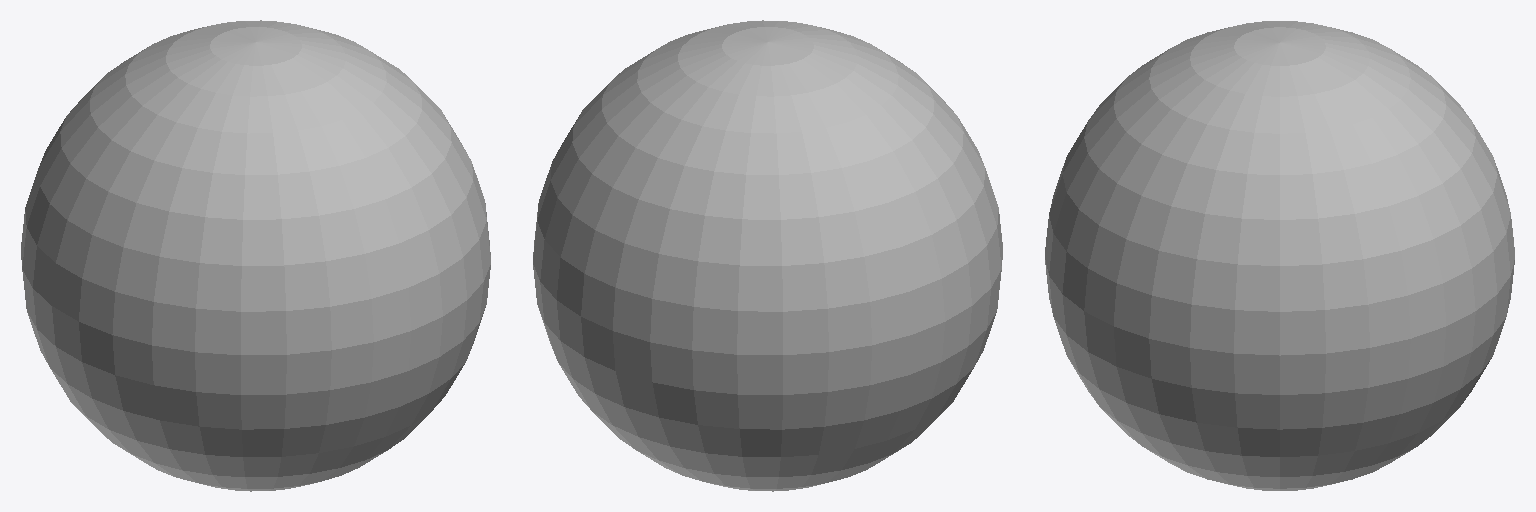
The robot description file, URDF, robot "ball1":
<?xml version="1.0"?>
<robot name="ball1">
  <material name="gray">
    <color rgba="0.75 0.75 0.75 0.5"/>
  </material>

  <link name="base_link">
  <visual>
    <geometry>
      <sphere radius="0.1"/>
    </geometry>
    <material name="gray"/>
  </visual>
    
  <collision>
    <geometry>
      <sphere radius="0.1"/>
    </geometry>
    <material name="gray"/>
  </collision>

  </link>
</robot>

--- Render facts (derived) ---
3 views of the same robot in one strip: view 1: azimuth 30°, elevation 25°; view 2: azimuth 150°, elevation 25°; view 3: azimuth 270°, elevation 25° (orthographic).
Robot: ball1 — 1 links, 0 joints (none); root link base_link; default pose: all joints at 0.
Links seen in each view (by area): view 1: base_link; view 2: base_link; view 3: base_link.
Boxes of the visible links, left/top/right/bottom form: base_link: left=21, top=20, right=490, bottom=491; base_link: left=533, top=20, right=1002, bottom=491; base_link: left=1045, top=21, right=1514, bottom=490.
Bounding box of the posed robot: 0.2 × 0.2 × 0.2 m (x, y, z).
Geometry: primitives only (box / cylinder / sphere), no mesh files.